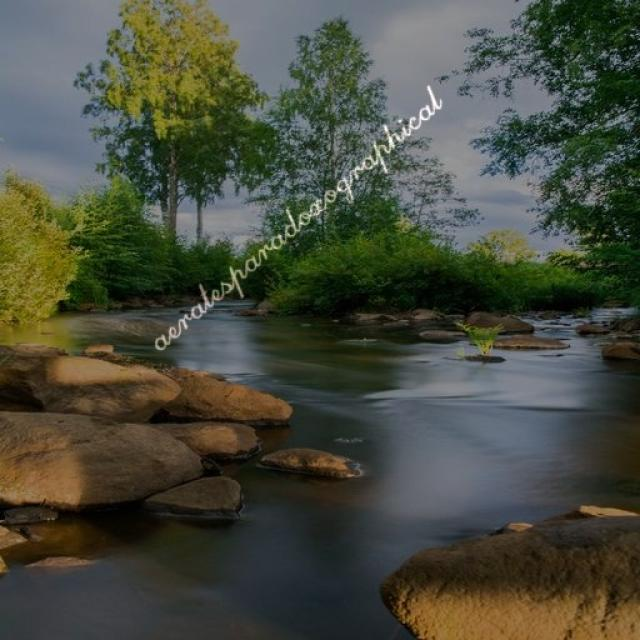watermark: (150, 76, 443, 358)
